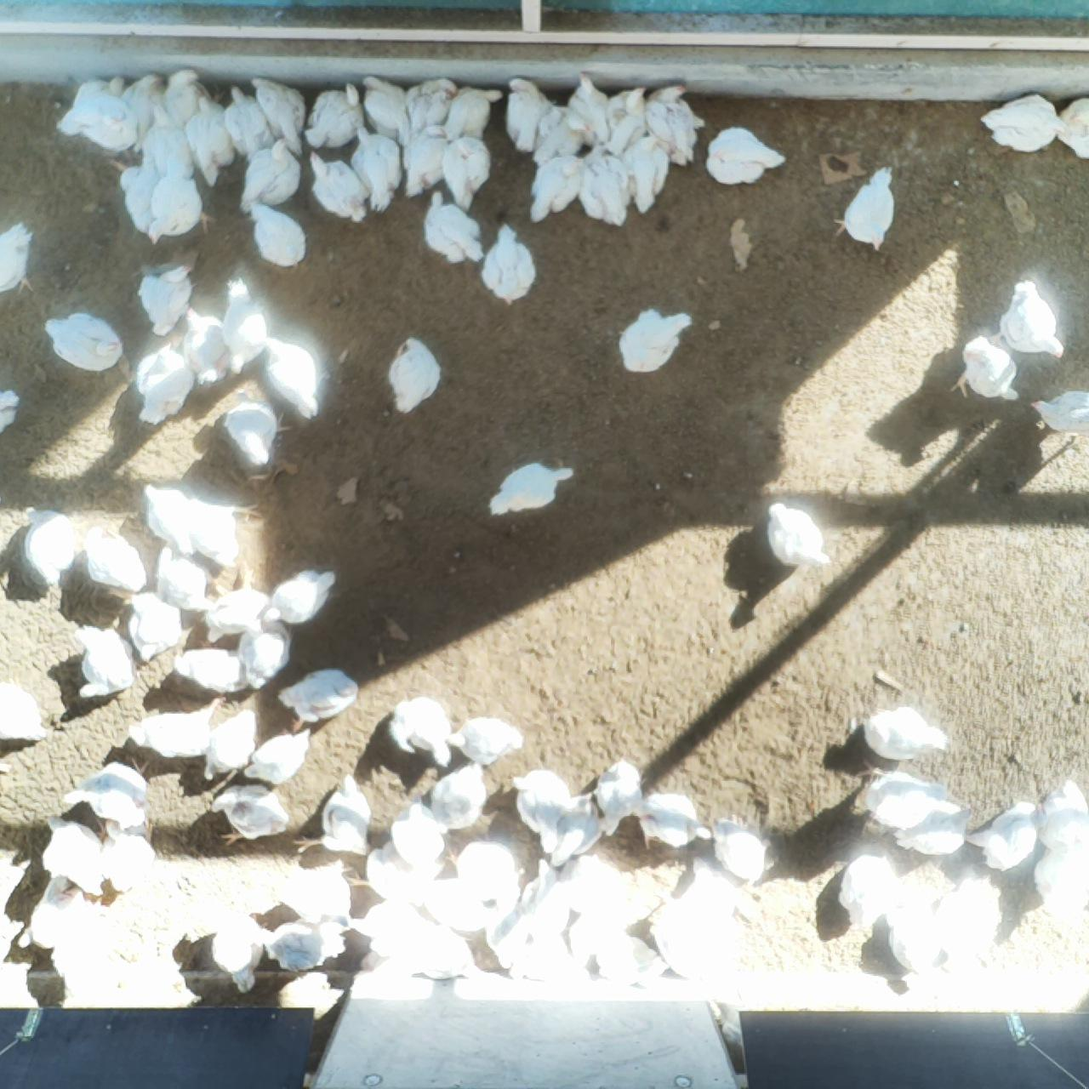chicken: (288, 770, 371, 861), (934, 871, 1007, 971), (125, 697, 225, 762), (993, 272, 1064, 361), (186, 494, 268, 570), (61, 759, 153, 826), (37, 812, 109, 897), (145, 160, 216, 246), (833, 161, 899, 251), (261, 332, 325, 424), (40, 306, 129, 372), (974, 92, 1070, 153), (407, 915, 490, 985), (617, 302, 696, 375), (884, 885, 947, 976), (360, 837, 443, 905), (485, 457, 576, 519), (968, 799, 1042, 875), (345, 123, 406, 215), (276, 666, 361, 731), (19, 502, 84, 587), (857, 769, 945, 831), (239, 132, 303, 217), (173, 304, 234, 393), (47, 889, 104, 984), (208, 781, 291, 845), (704, 124, 791, 185), (220, 273, 271, 377), (133, 259, 200, 338), (384, 333, 446, 418), (93, 816, 157, 898), (512, 770, 572, 857), (420, 188, 486, 267), (248, 71, 307, 159), (859, 705, 953, 760), (82, 523, 152, 596), (644, 83, 707, 164), (73, 621, 136, 702), (386, 692, 453, 768), (262, 918, 349, 976), (273, 865, 357, 925), (242, 722, 316, 790), (762, 497, 829, 572), (546, 791, 610, 869), (591, 926, 670, 989), (688, 857, 760, 926), (211, 909, 268, 996), (576, 143, 633, 229), (12, 879, 78, 953), (302, 78, 366, 154), (479, 221, 536, 306), (136, 342, 191, 430), (149, 539, 211, 617), (261, 567, 341, 627), (954, 332, 1022, 402), (345, 899, 430, 955), (832, 852, 894, 928), (309, 150, 370, 227), (58, 74, 127, 142), (232, 618, 296, 691), (636, 790, 711, 852), (202, 704, 259, 784), (222, 399, 289, 467), (140, 477, 198, 555), (247, 197, 308, 271), (162, 68, 227, 137), (185, 94, 234, 185), (445, 714, 527, 768), (441, 132, 495, 213), (561, 852, 629, 916), (707, 815, 768, 886), (1031, 842, 1089, 916), (529, 151, 585, 227), (119, 70, 166, 160), (529, 106, 595, 170), (416, 878, 492, 933), (127, 592, 185, 664), (503, 78, 557, 155), (172, 644, 255, 694), (892, 807, 976, 856), (143, 107, 196, 184), (81, 91, 136, 165), (223, 84, 275, 162), (433, 759, 490, 829), (359, 74, 413, 147), (594, 758, 643, 838), (519, 857, 571, 932), (442, 79, 502, 143), (598, 86, 651, 158), (202, 590, 274, 643), (623, 133, 669, 215), (1036, 778, 1089, 849), (649, 919, 707, 982), (404, 124, 452, 199), (391, 800, 447, 864), (117, 156, 162, 234), (649, 889, 719, 938), (403, 75, 461, 133), (453, 840, 515, 894), (484, 892, 528, 968), (511, 921, 563, 985), (564, 78, 610, 146), (0, 222, 37, 303), (564, 905, 618, 960), (1026, 386, 1089, 433), (0, 676, 47, 738), (356, 938, 427, 978), (1052, 93, 1089, 161), (551, 935, 591, 987), (0, 387, 22, 432)
